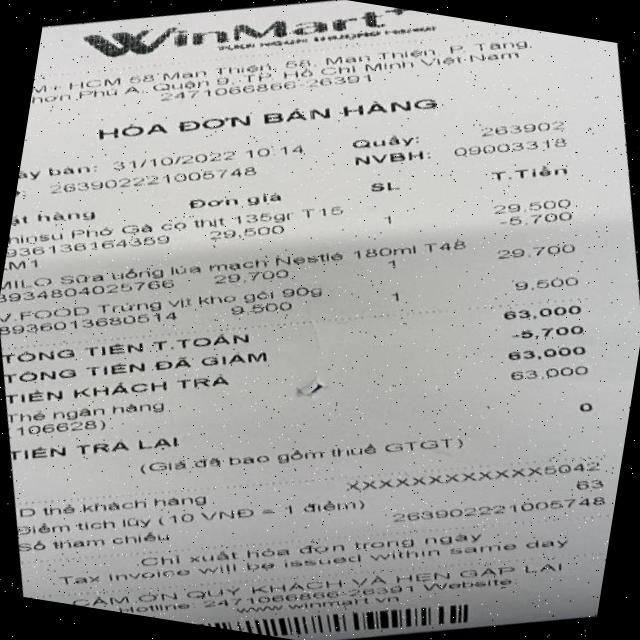Date: (94, 124, 245, 199)
Store_Name: (56, 0, 461, 126)
amount_number: (462, 272, 612, 352)
label_total: (0, 324, 252, 371)
